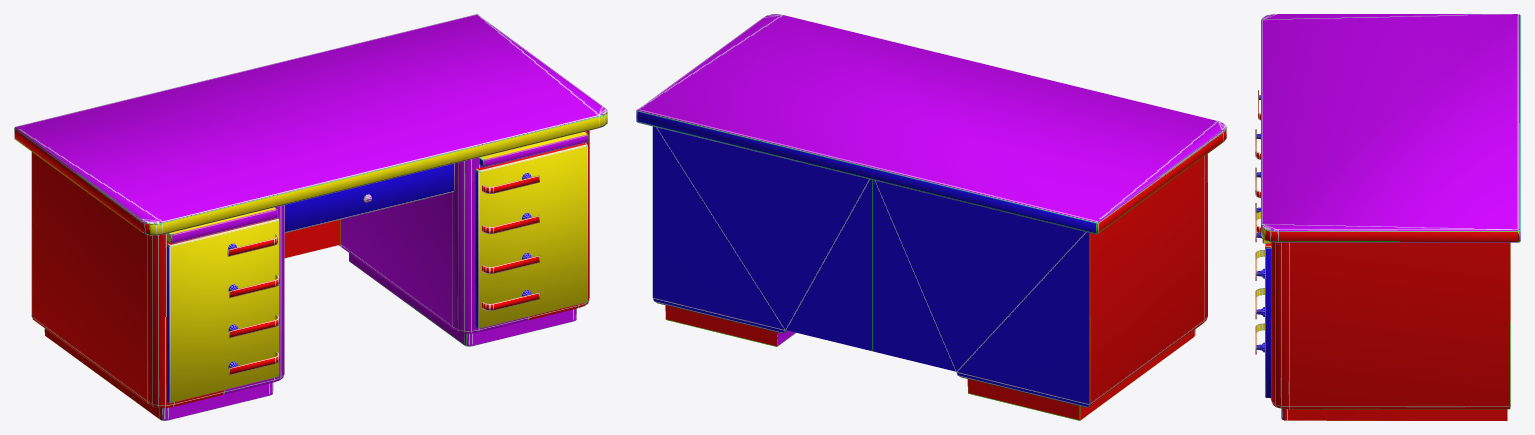
Rendered from Desk1.fbx.
3 views of the same model, side by side, from view 1: azimuth 30°, elevation 25°; view 2: azimuth 150°, elevation 25°; view 3: azimuth 270°, elevation 25° (orthographic). The views are drawn at different scales.
Parts seen in each view (by area): view 1: SM_desk_01a; view 2: SM_desk_01a; view 3: SM_desk_01a.
Part boxes in pixels (x1=…): SM_desk_01a: x1=14, y1=14, x2=607, y2=420; SM_desk_01a: x1=636, y1=14, x2=1226, y2=420; SM_desk_01a: x1=1255, y1=14, x2=1520, y2=420.
Bounding box in the file's own units: 177210 × 76713 × 91431.
